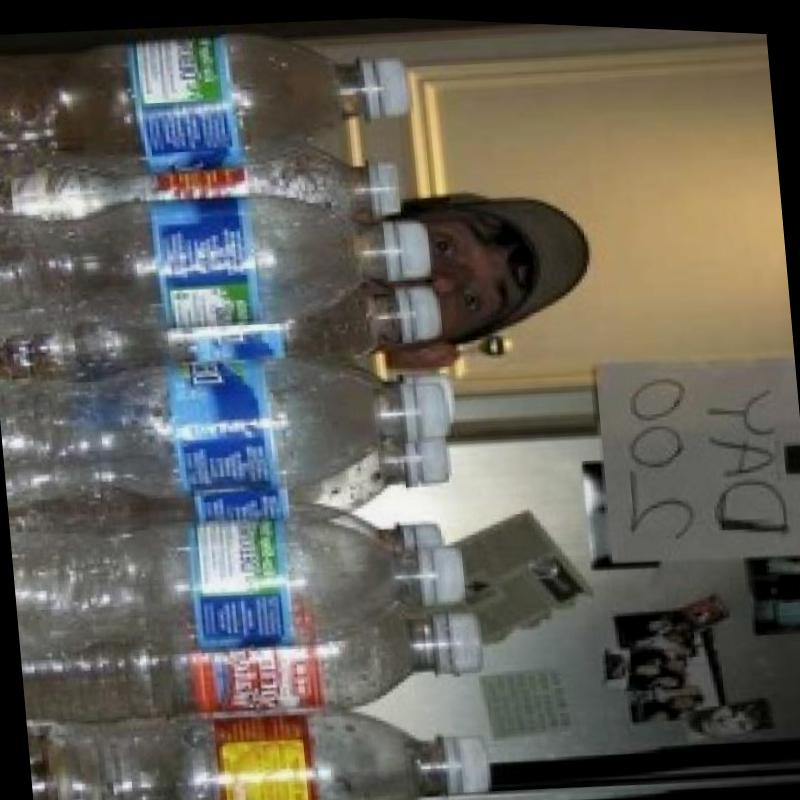botella: (10, 488, 473, 672), (0, 163, 437, 345), (0, 5, 415, 192), (0, 339, 453, 510), (18, 586, 488, 736), (0, 265, 445, 392), (27, 679, 494, 800), (3, 422, 452, 537), (0, 127, 406, 253), (334, 496, 441, 553)
